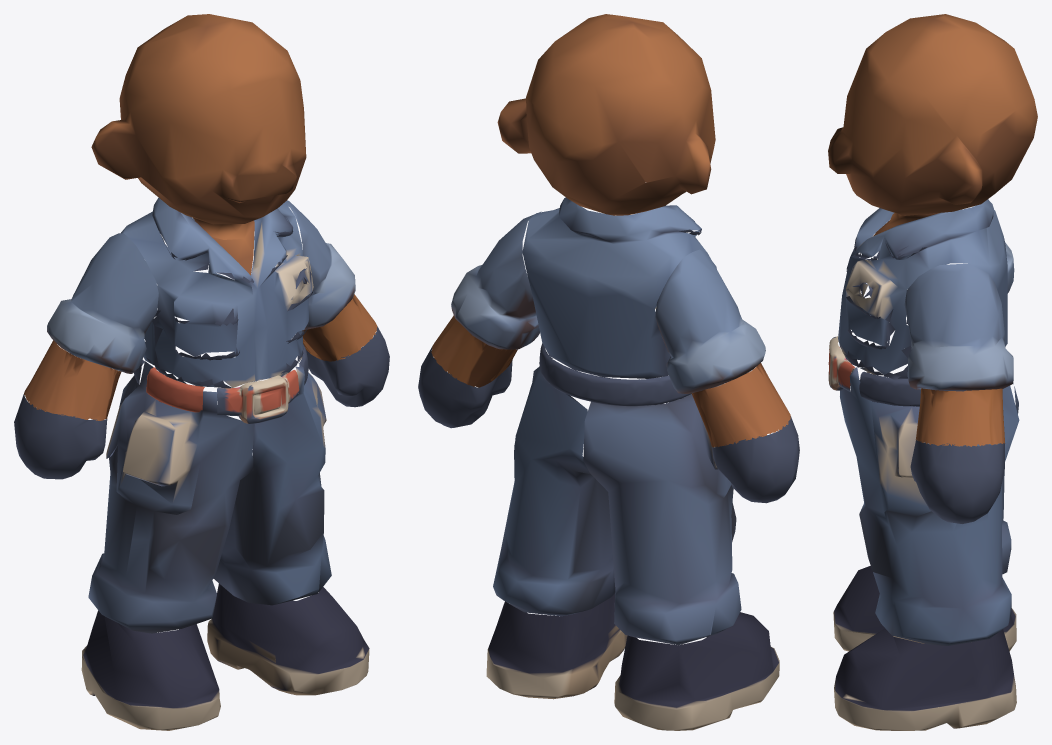
3 views of the same model, side by side, from view 1: azimuth 30°, elevation 25°; view 2: azimuth 150°, elevation 25°; view 3: azimuth 270°, elevation 25° (orthographic).
Visible parts, largest first — view 1: hair, bottom, shoe_l, shoe_r, acc_head_1, hand_r, acc_head_2, acc_head_0, hand_l, top, acc_head_3, head (+1 smaller); view 2: hair, bottom, shoe_r, shoe_l, acc_head_1, acc_head_0, acc_head_2, hand_r, head, hand_l, acc_head_3; view 3: hair, bottom, shoe_l, acc_head_0, hand_l, acc_head_3, shoe_r, head, top.
Part boxes in pixels (<box>): hair: <box>91,14,313,387</box>; bottom: <box>88,361,331,633</box>; shoe_l: <box>207,583,369,695</box>; shoe_r: <box>81,610,220,730</box>; acc_head_1: <box>47,233,158,373</box>; hand_r: <box>14,394,107,479</box>; acc_head_2: <box>24,340,121,420</box>; acc_head_0: <box>285,200,355,330</box>; hand_l: <box>306,326,389,407</box>; top: <box>217,370,299,423</box>; acc_head_3: <box>302,294,377,361</box>; head: <box>134,217,312,388</box>; hair: <box>497,14,716,378</box>; bottom: <box>493,358,741,645</box>; shoe_r: <box>614,612,779,730</box>; shoe_l: <box>486,593,627,699</box>; acc_head_1: <box>655,249,765,393</box>; acc_head_0: <box>451,211,541,349</box>; acc_head_2: <box>691,363,790,447</box>; hand_r: <box>712,416,799,503</box>; head: <box>539,229,701,406</box>; hand_l: <box>418,346,512,428</box>; acc_head_3: <box>431,315,517,387</box>; hair: <box>828,14,1037,375</box>; bottom: <box>840,367,1019,645</box>; shoe_l: <box>834,628,1016,730</box>; acc_head_0: <box>904,263,1013,390</box>; hand_l: <box>910,440,1004,523</box>; acc_head_3: <box>915,388,1005,446</box>; shoe_r: <box>833,566,1016,651</box>; head: <box>844,239,1005,406</box>; top: <box>828,331,854,391</box>.
Bounding box in the file's own units: 0.5975 × 1.03 × 0.2999.
